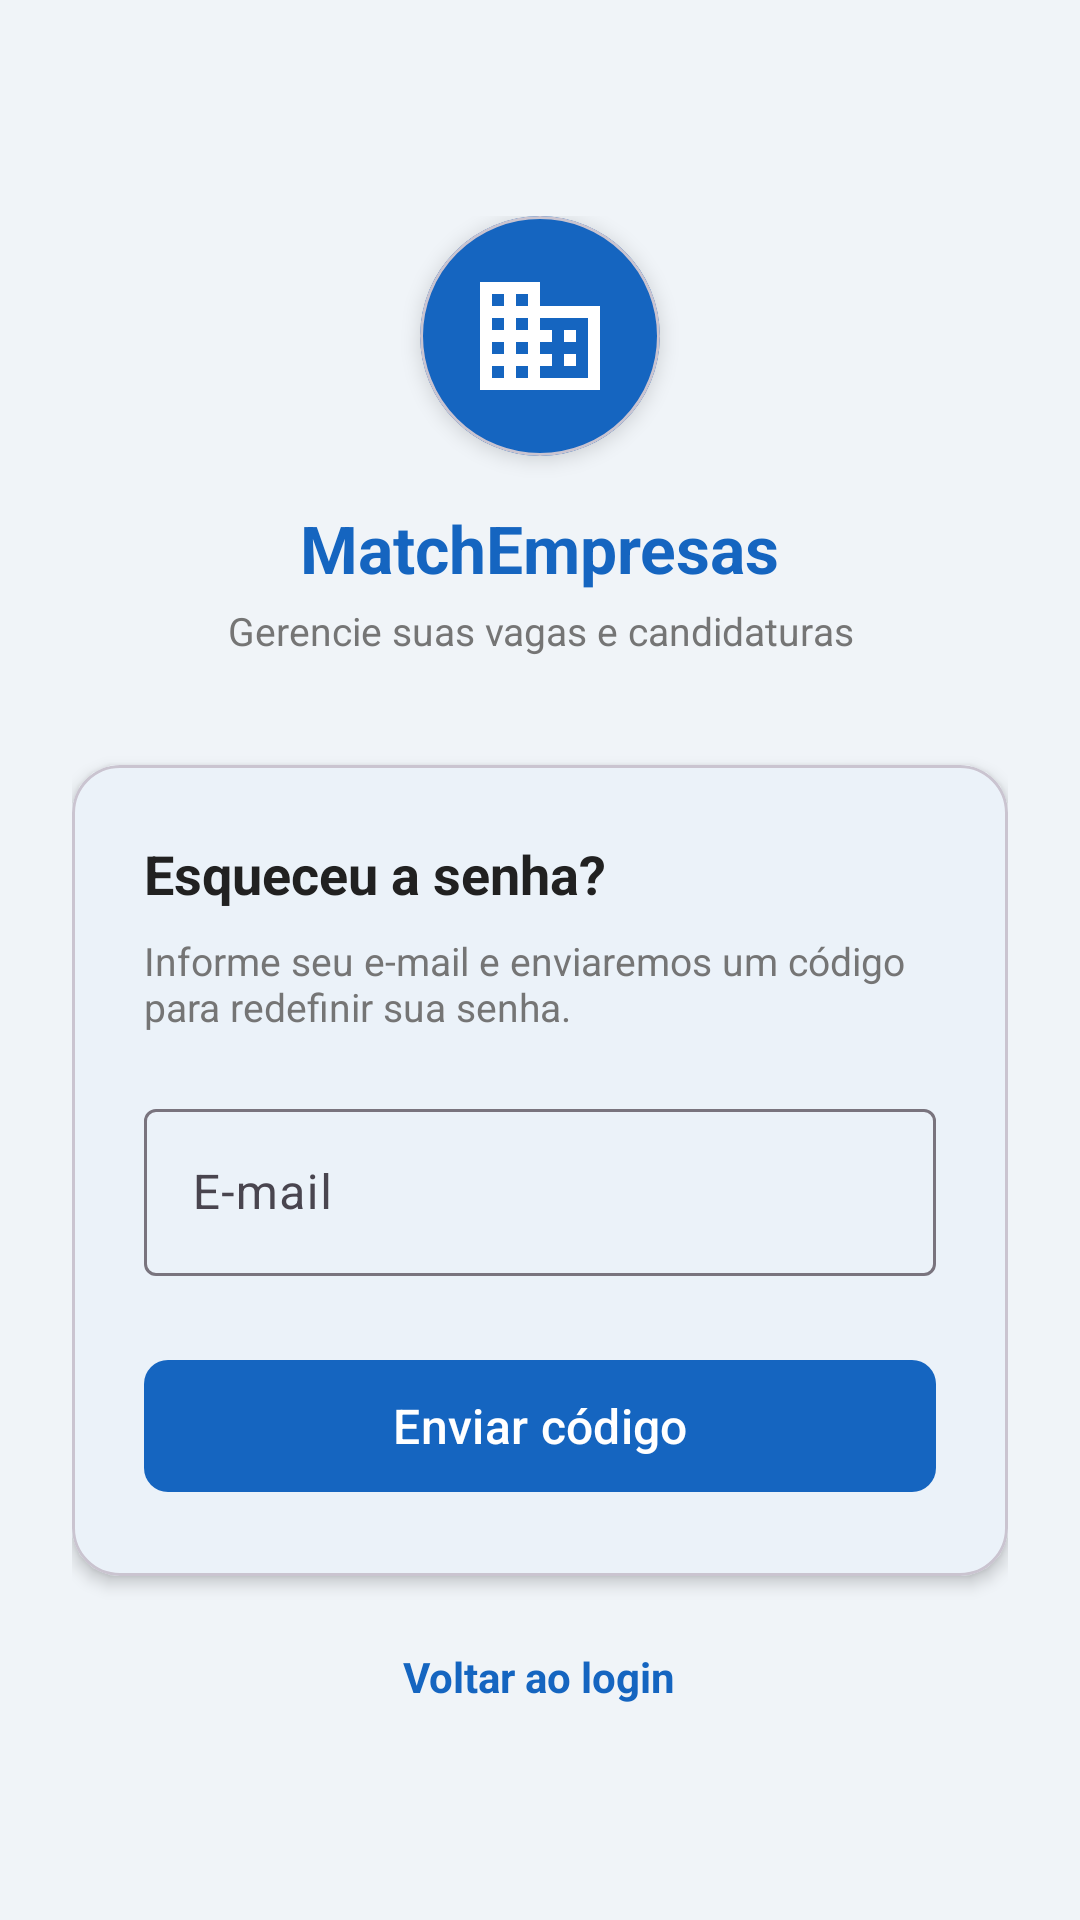

Where icons sit on this 1080×1920 app screen, as region(x1, y1, x2, y2):
business: region(420, 216, 660, 456)
